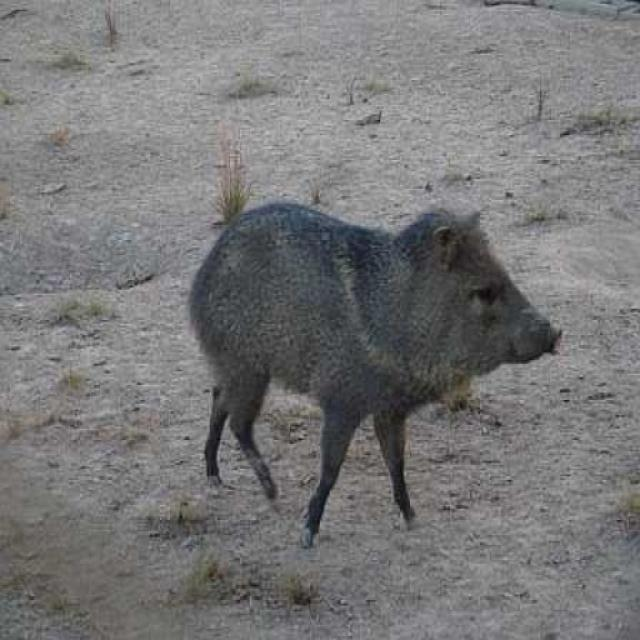pig: (174, 136, 590, 527)
